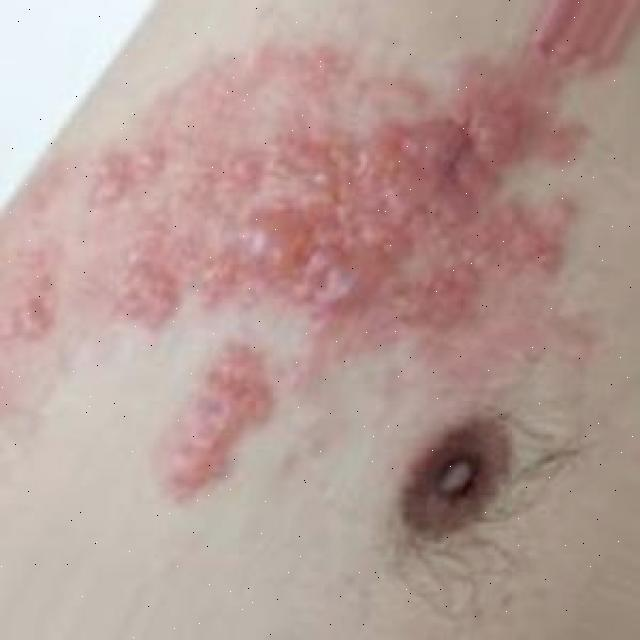Shingles: (18, 43, 567, 495)
